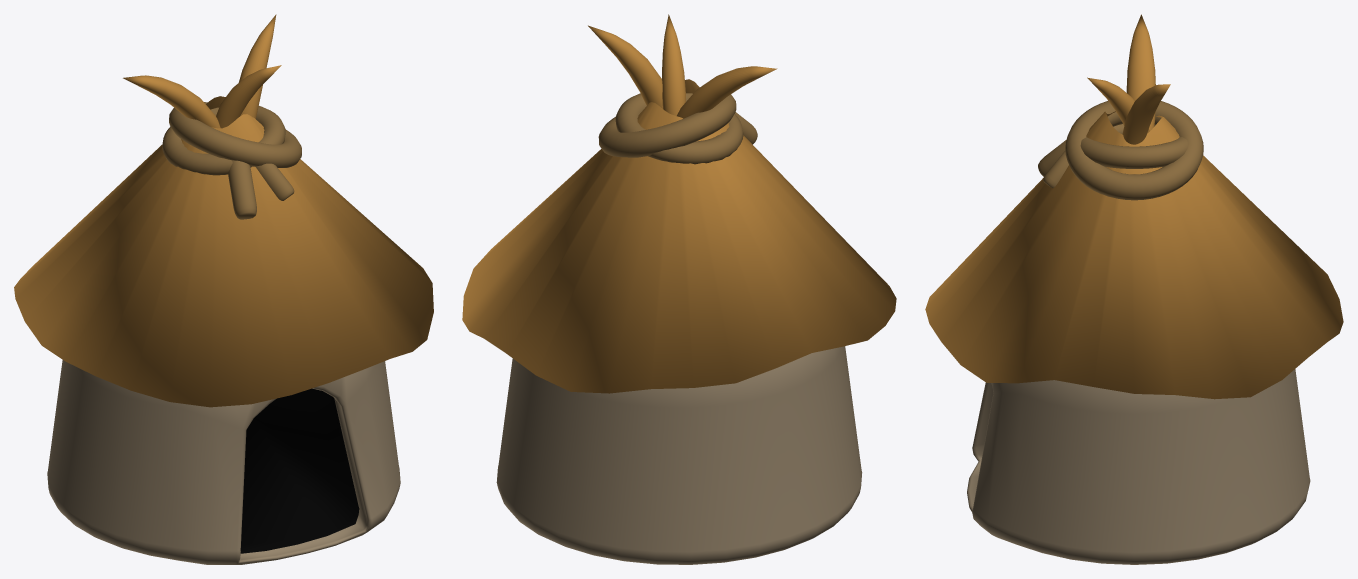
File: hut.glb
The picture shows the model from 3 angles, left to right: view 1: azimuth 30°, elevation 25°; view 2: azimuth 150°, elevation 25°; view 3: azimuth 270°, elevation 25°; orthographic projection. The views are drawn at different scales.
Parts seen in each view (by area): view 1: Cylinder.001, Cylinder, Torus.001, Torus, Cylinder.004, Cylinder.006, Cylinder.002, Cylinder.005, Cylinder.003; view 2: Cylinder.001, Cylinder, Torus.001, Torus, Cylinder.005, Cylinder.004, Cylinder.006; view 3: Cylinder.001, Cylinder, Torus.001, Torus, Cylinder.004, Cylinder.005, Cylinder.006.
Part boxes in pixels (x1=…): Cylinder.001: x1=14, y1=96, x2=433, y2=407; Cylinder: x1=47, y1=360, x2=400, y2=564; Torus.001: x1=169, y1=102, x2=301, y2=167; Torus: x1=162, y1=106, x2=285, y2=175; Cylinder.004: x1=123, y1=75, x2=220, y2=128; Cylinder.006: x1=216, y1=65, x2=281, y2=128; Cylinder.002: x1=228, y1=160, x2=256, y2=219; Cylinder.005: x1=238, y1=14, x2=276, y2=118; Cylinder.003: x1=255, y1=163, x2=294, y2=200; Cylinder.001: x1=462, y1=79, x2=896, y2=393; Cylinder: x1=496, y1=346, x2=862, y2=564; Torus.001: x1=598, y1=94, x2=736, y2=157; Torus: x1=615, y1=93, x2=743, y2=164; Cylinder.005: x1=588, y1=25, x2=662, y2=108; Cylinder.004: x1=677, y1=66, x2=777, y2=118; Cylinder.006: x1=662, y1=14, x2=685, y2=115; Cylinder.001: x1=925, y1=111, x2=1343, y2=399; Cylinder: x1=967, y1=369, x2=1310, y2=564; Torus.001: x1=1065, y1=101, x2=1203, y2=200; Torus: x1=1080, y1=124, x2=1188, y2=168; Cylinder.004: x1=1126, y1=14, x2=1155, y2=131; Cylinder.005: x1=1122, y1=84, x2=1170, y2=144; Cylinder.006: x1=1087, y1=77, x2=1149, y2=133.
Bounding box in the file's own units: 2.9 × 3.42 × 2.9.
